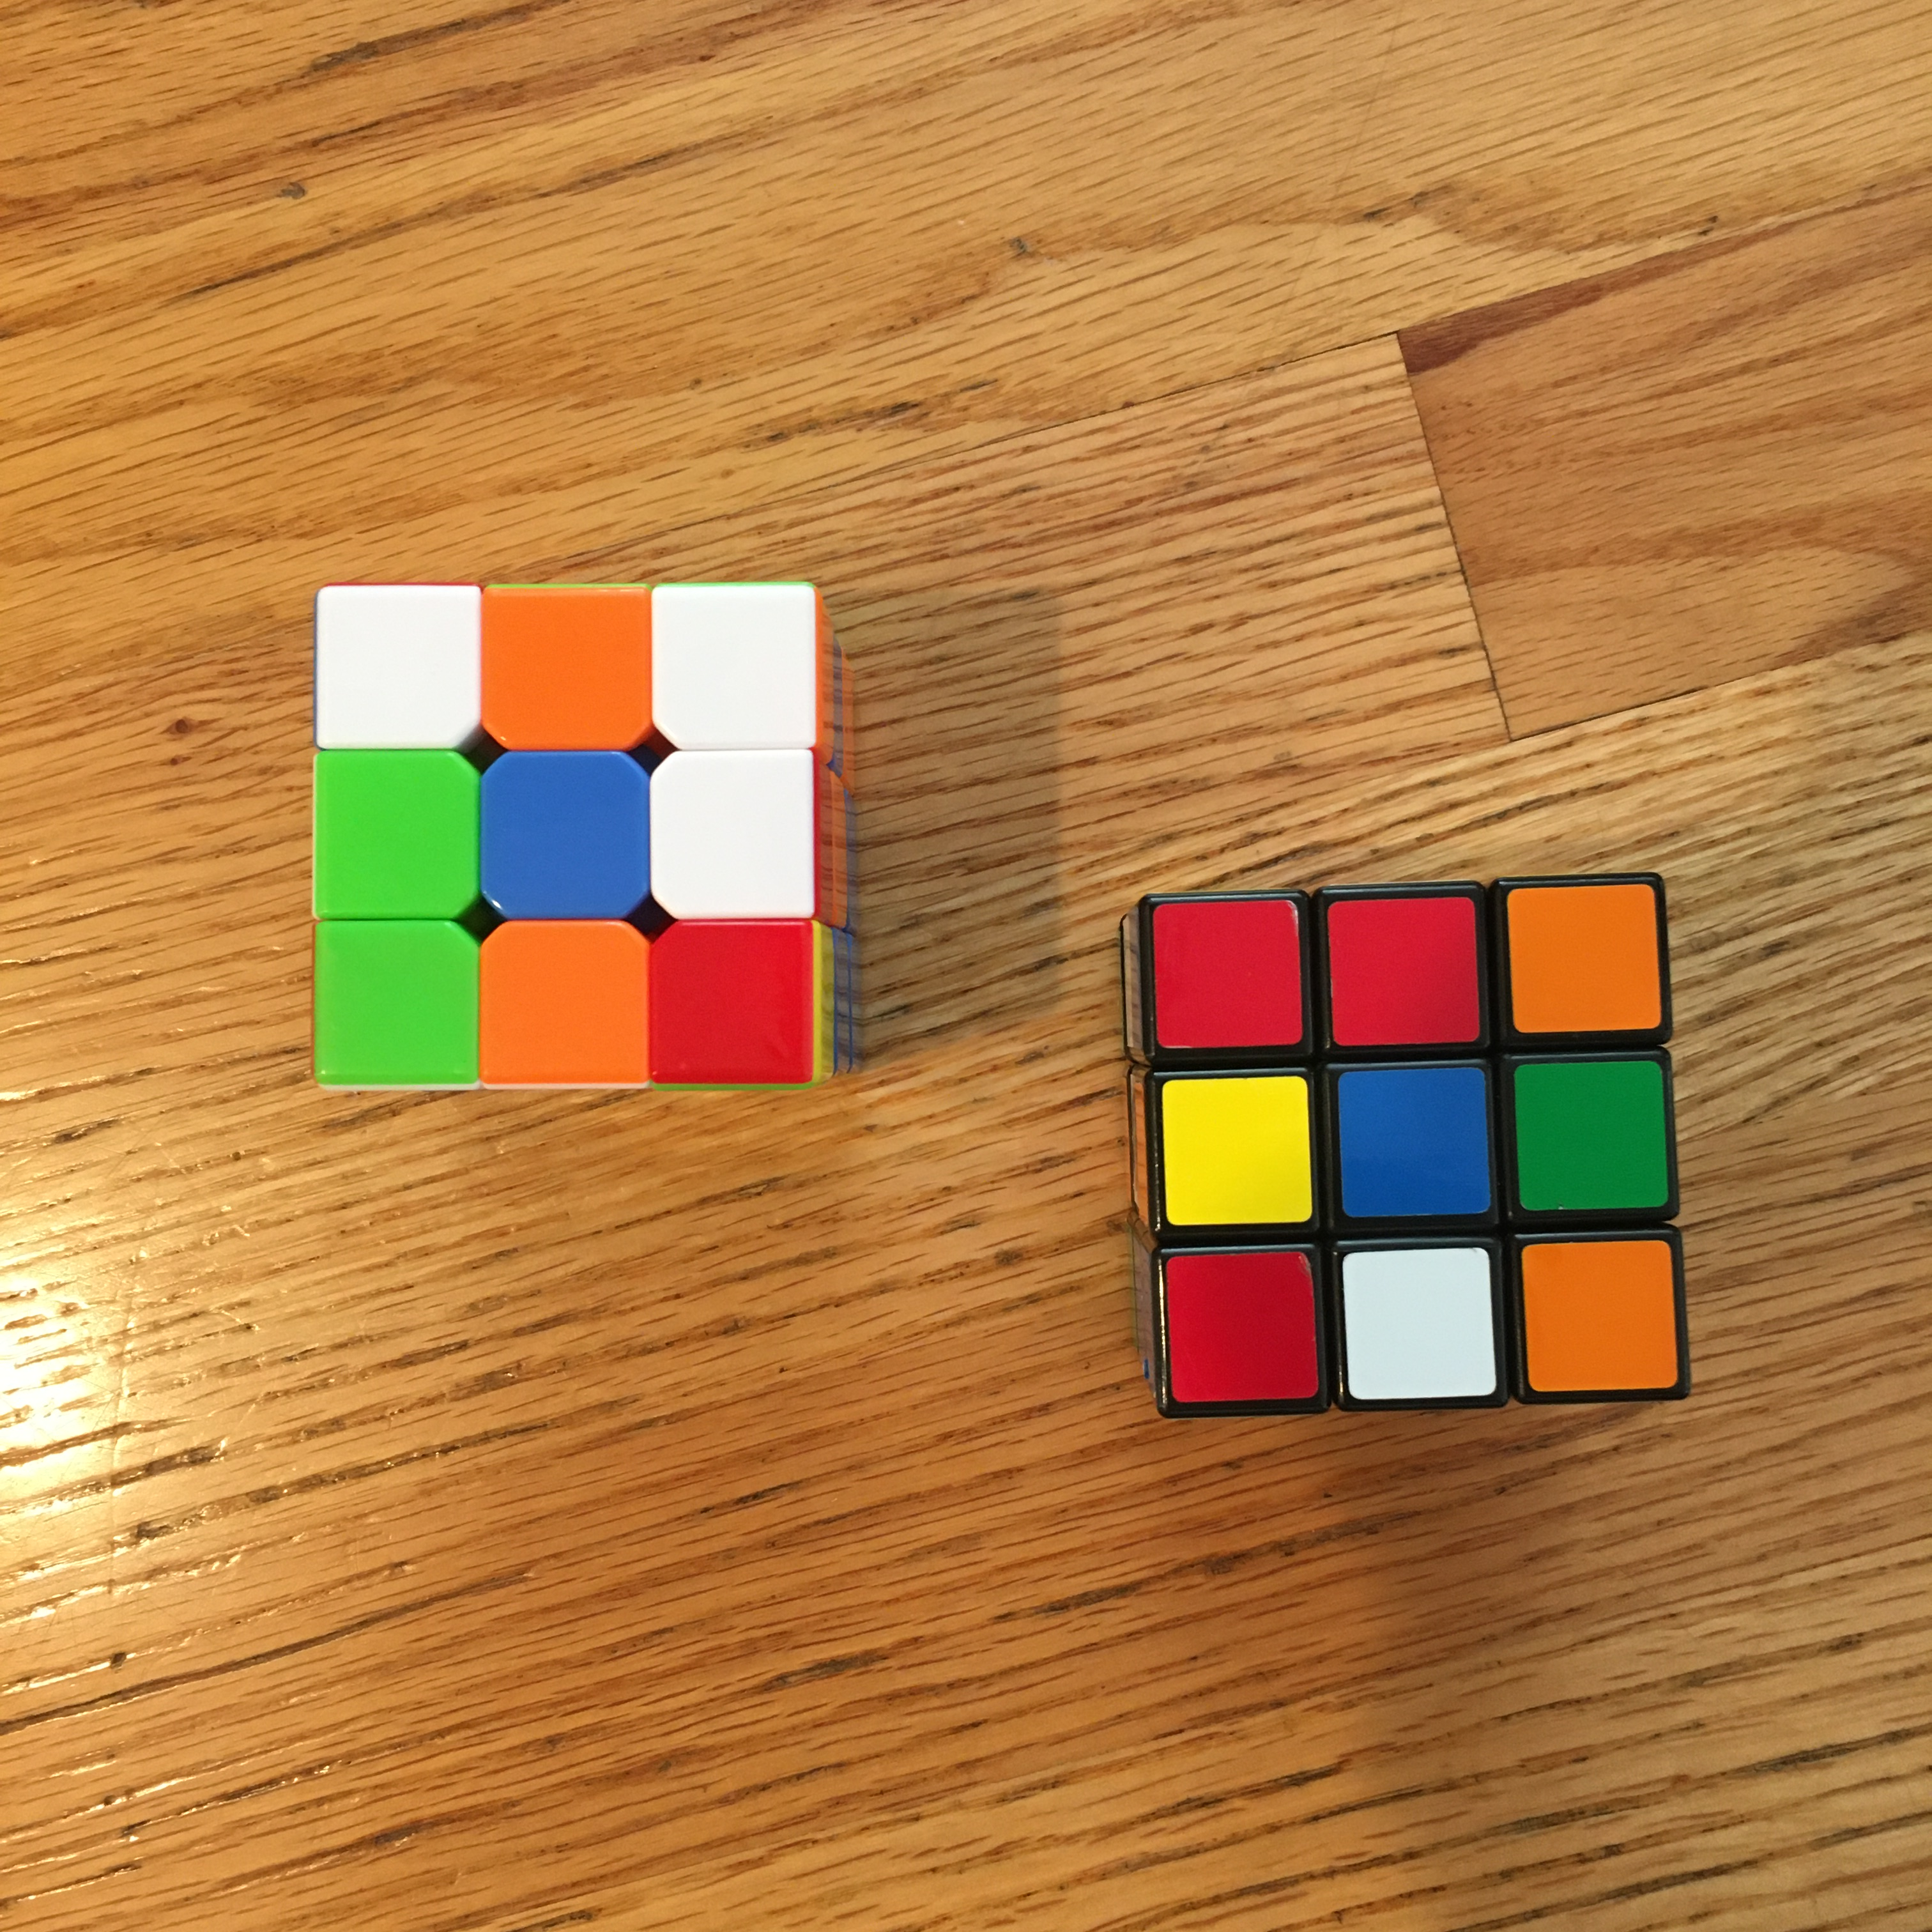face: (1134, 888, 1687, 1406), (309, 571, 820, 1091)
